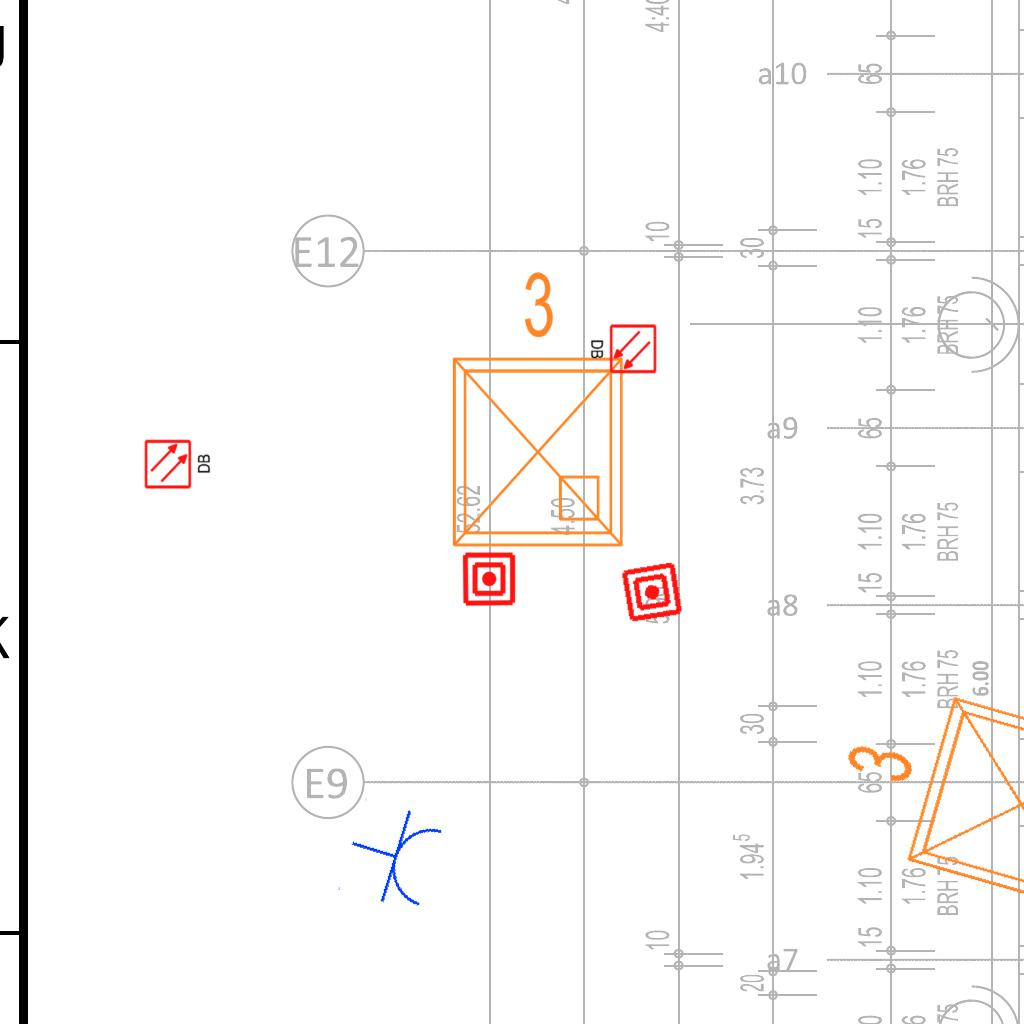DB_Melder_in_Doppelboden_mit_Revisionsoeffnung_mind_40_x_40_cm: (586, 321, 660, 378), (141, 435, 215, 492)
Einbaudownlights_LED_Konferenzraeume: (430, 261, 638, 561), (808, 655, 1024, 939)
NAM-Nichtautomatischer_Melder: (619, 559, 685, 625), (461, 551, 517, 607)
Schukosteckdose_einfach: (336, 795, 450, 918)
